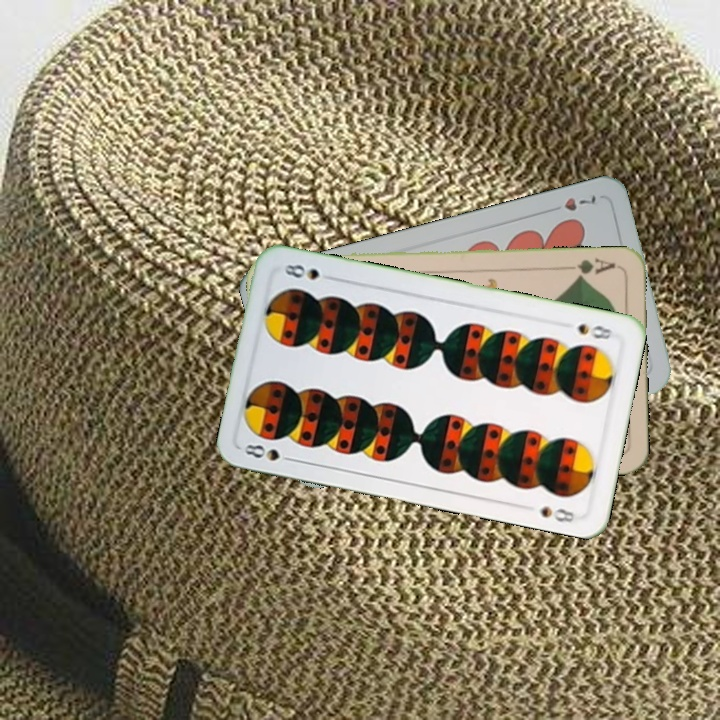GA: (561, 254, 618, 281)
H7: (560, 190, 599, 214)
S8: (240, 440, 299, 465), (573, 319, 615, 342)
